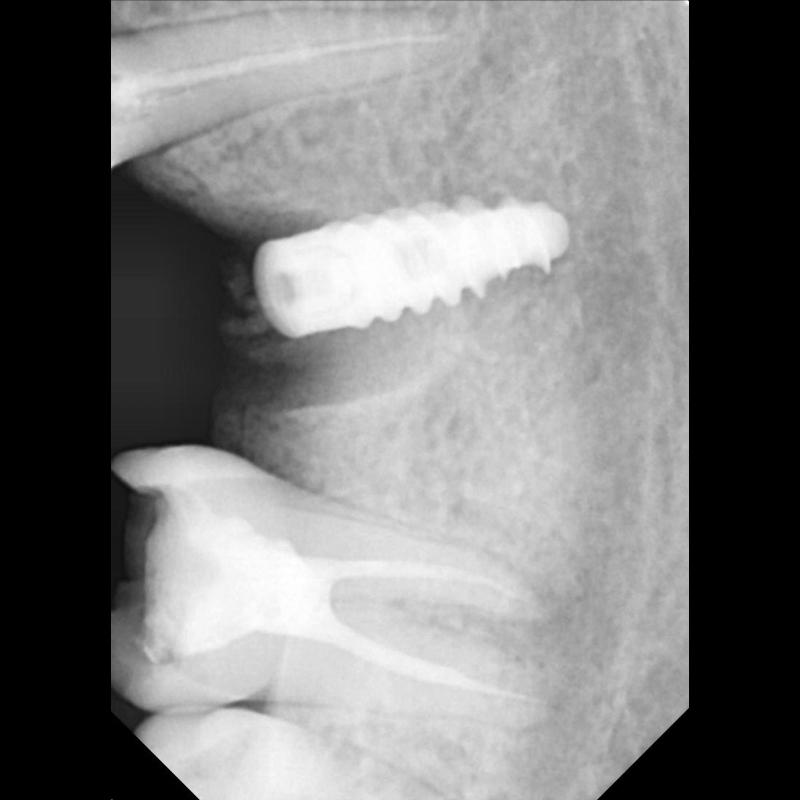NORIS: (252, 189, 572, 343)
